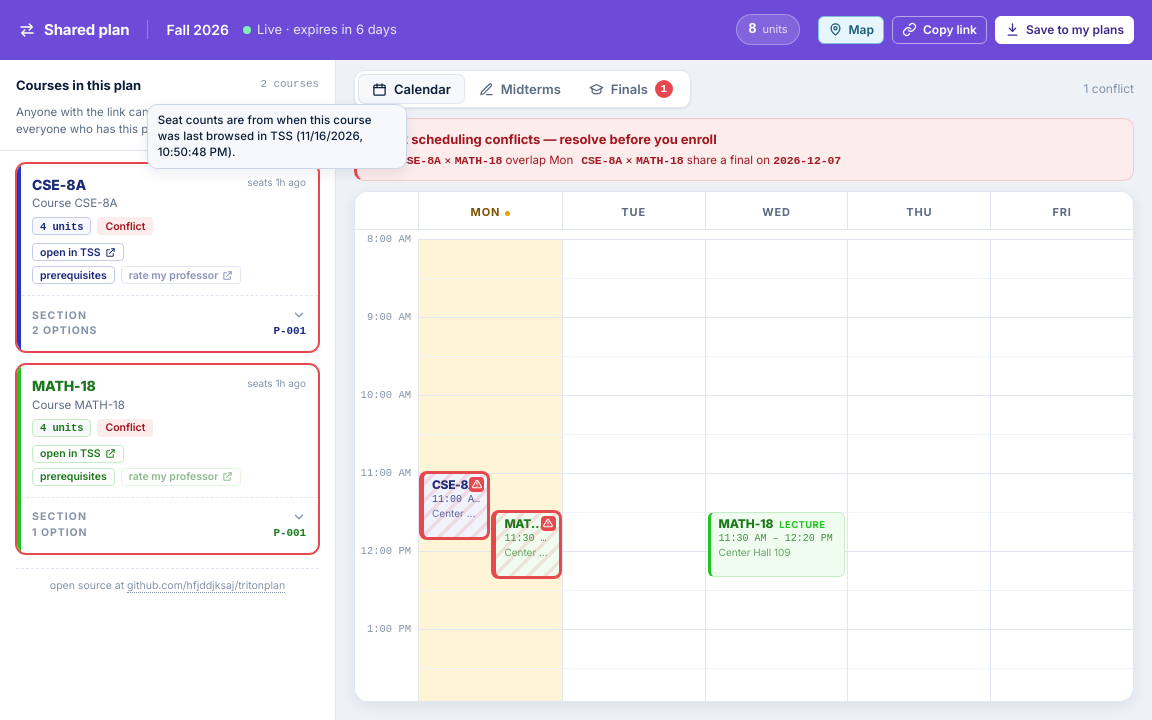
Test: SharedPlanPage › Copy link copies this page's address and says so
Step 1. Click the button "Copy link" → point(940, 30), box [892,16,987,44]
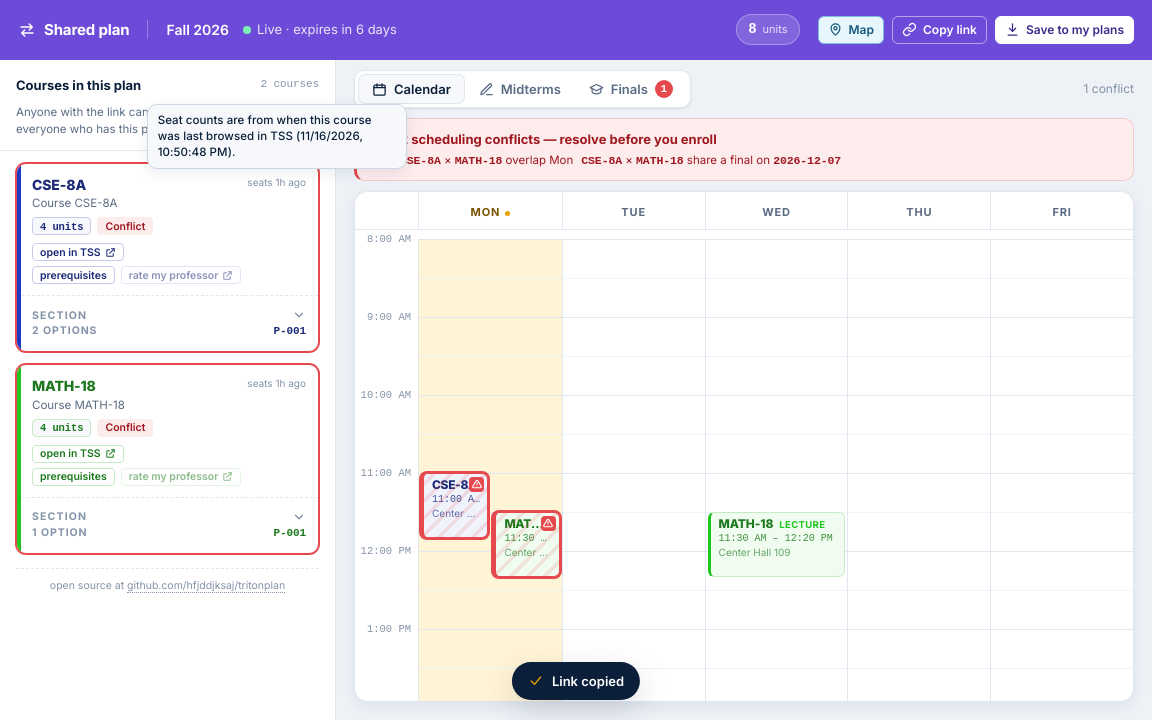
Expected: the message with class "toast" reads "Link copied", [552,673,624,689]
